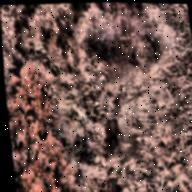boar: (96, 106, 123, 159)
